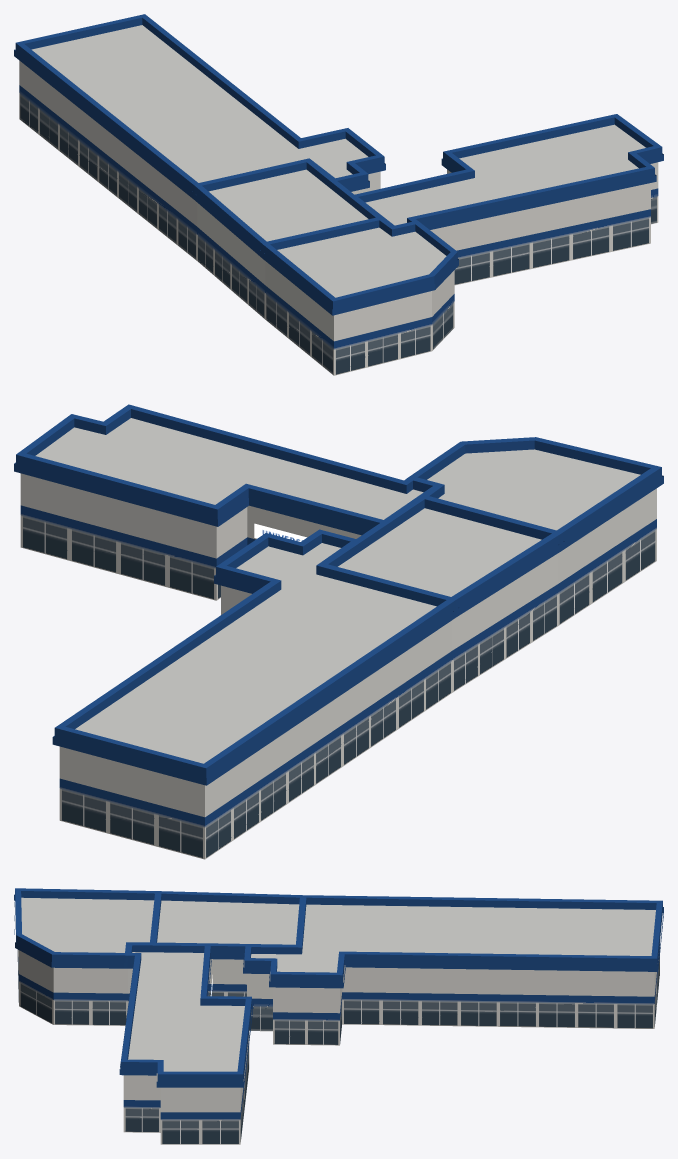
The model's file is univ_aruba.glb.
3 views of the same model, one above another, from view 1: azimuth 30°, elevation 25°; view 2: azimuth 150°, elevation 25°; view 3: azimuth 270°, elevation 25° (orthographic). The views are drawn at different scales.
Visible parts, largest first — view 1: univ_aruba_lod0; view 2: univ_aruba_lod0; view 3: univ_aruba_lod0.
Boxes of the visible parts, x1,y1,x2,y2 form: univ_aruba_lod0: (14, 14, 663, 375); univ_aruba_lod0: (14, 404, 663, 859); univ_aruba_lod0: (14, 888, 663, 1144).
Size of what is drawn, in the model's own units: 40.92 by 7.3 by 60.12.
5 materials, 2 textured.
